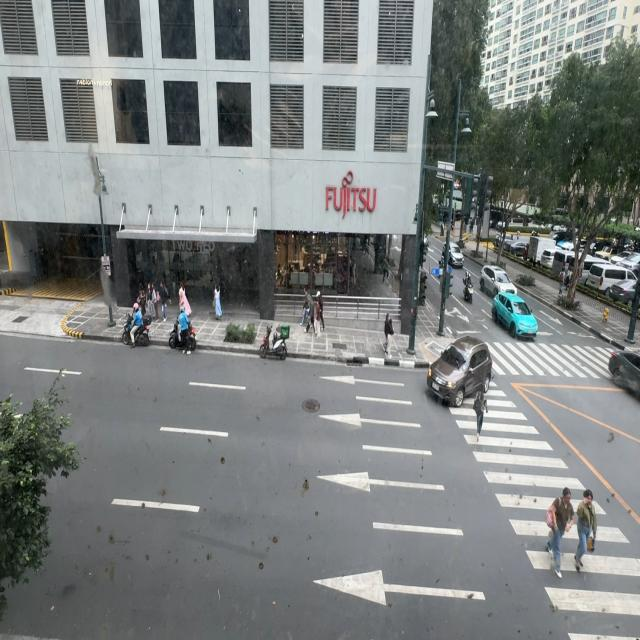crossing: (542, 478, 574, 576), (574, 488, 596, 567), (473, 387, 488, 441)
pedestrain: (175, 282, 195, 321), (308, 292, 324, 336), (303, 285, 314, 335), (559, 260, 571, 302), (146, 283, 157, 323), (214, 283, 223, 321)
waiting: (384, 312, 394, 357)
